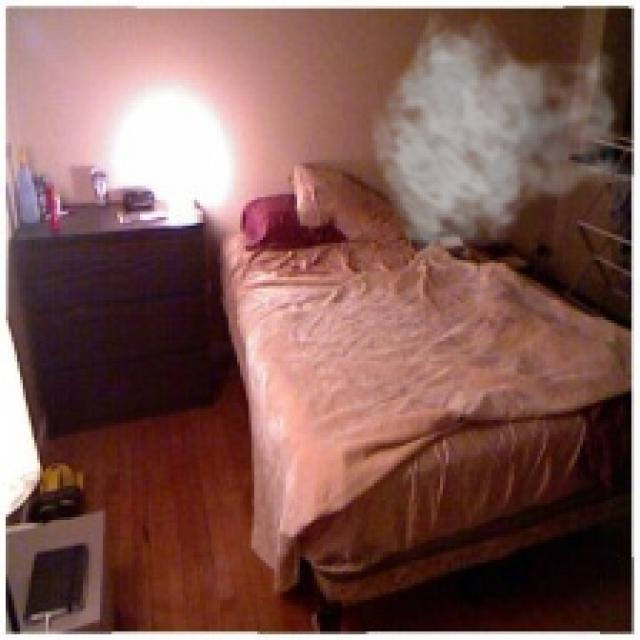Smoke: (368, 6, 638, 263)
